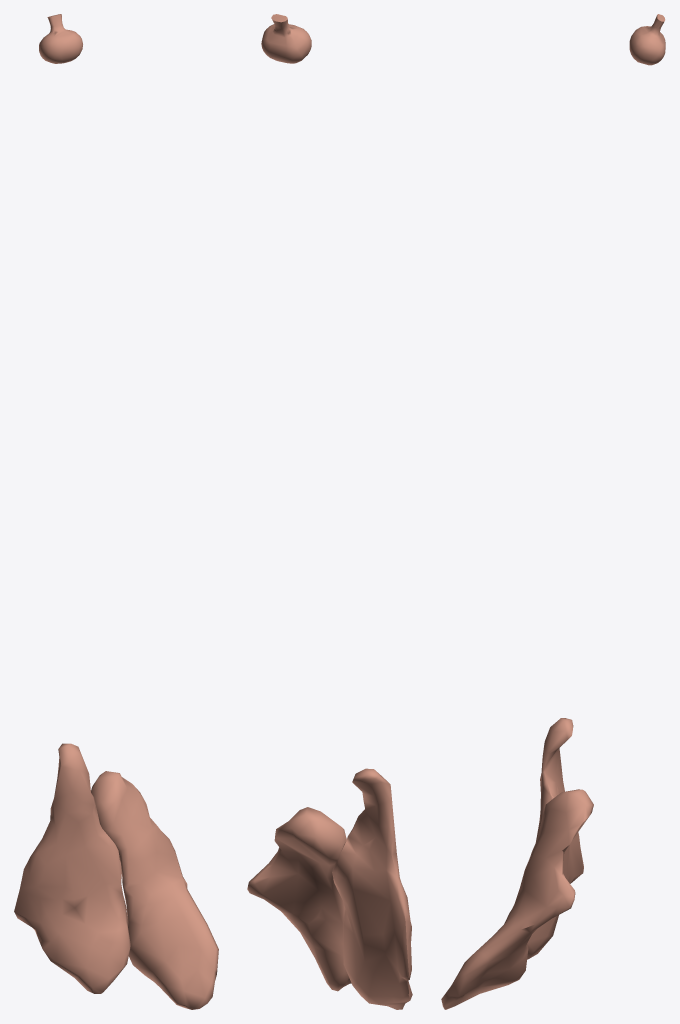
File: body-glands.glb
3 views of the same model, side by side, from view 1: azimuth 30°, elevation 25°; view 2: azimuth 150°, elevation 25°; view 3: azimuth 270°, elevation 25° (orthographic). The views are drawn at different scales.
Parts seen in each view (by area): view 1: FJ3151, FJ3150, FJ1796; view 2: FJ3151, FJ3150, FJ1796; view 3: FJ3150, FJ3151, FJ1796.
Part boxes in pixels (x1,y1,x2,y2): FJ3151: (14,743,130,993); FJ3150: (91,771,218,1009); FJ1796: (39,14,82,63); FJ3151: (332,768,412,1009); FJ3150: (247,807,351,991); FJ1796: (261,14,311,63); FJ3150: (441,789,593,1009); FJ3151: (527,718,583,959); FJ1796: (629,14,665,65).
Size of the model in its own units: 0.0467 by 0.278 by 0.0581.
